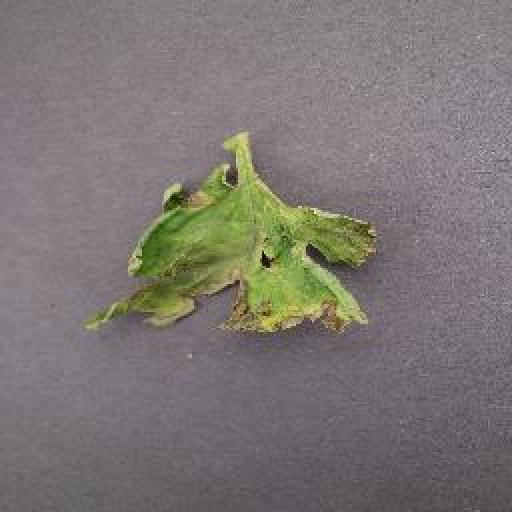disease_tomato: (88, 159, 387, 340)
